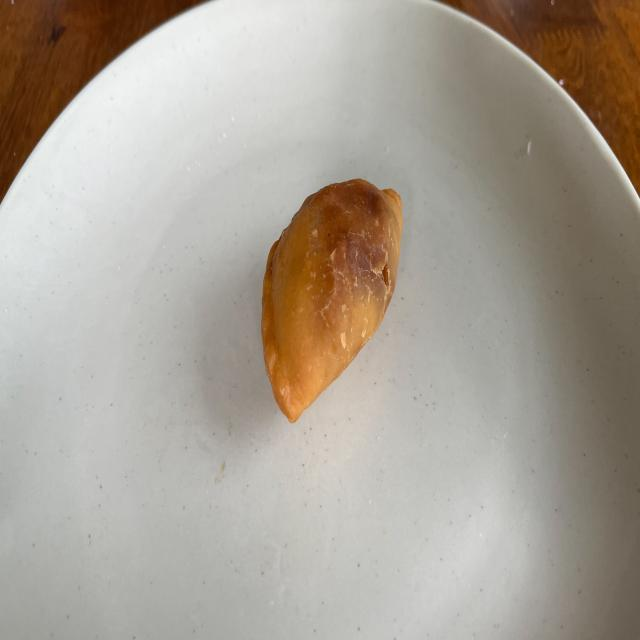karipap: (261, 180, 402, 422)
